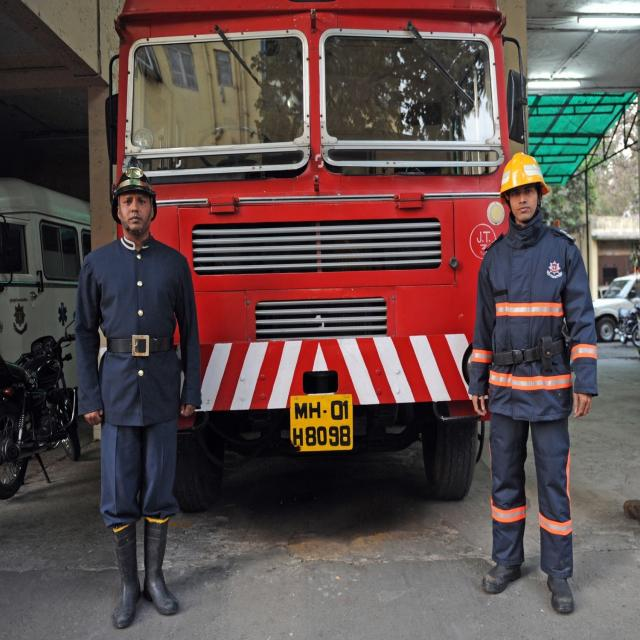emergency: (110, 0, 511, 510)
motorcycle: (0, 332, 80, 498)
